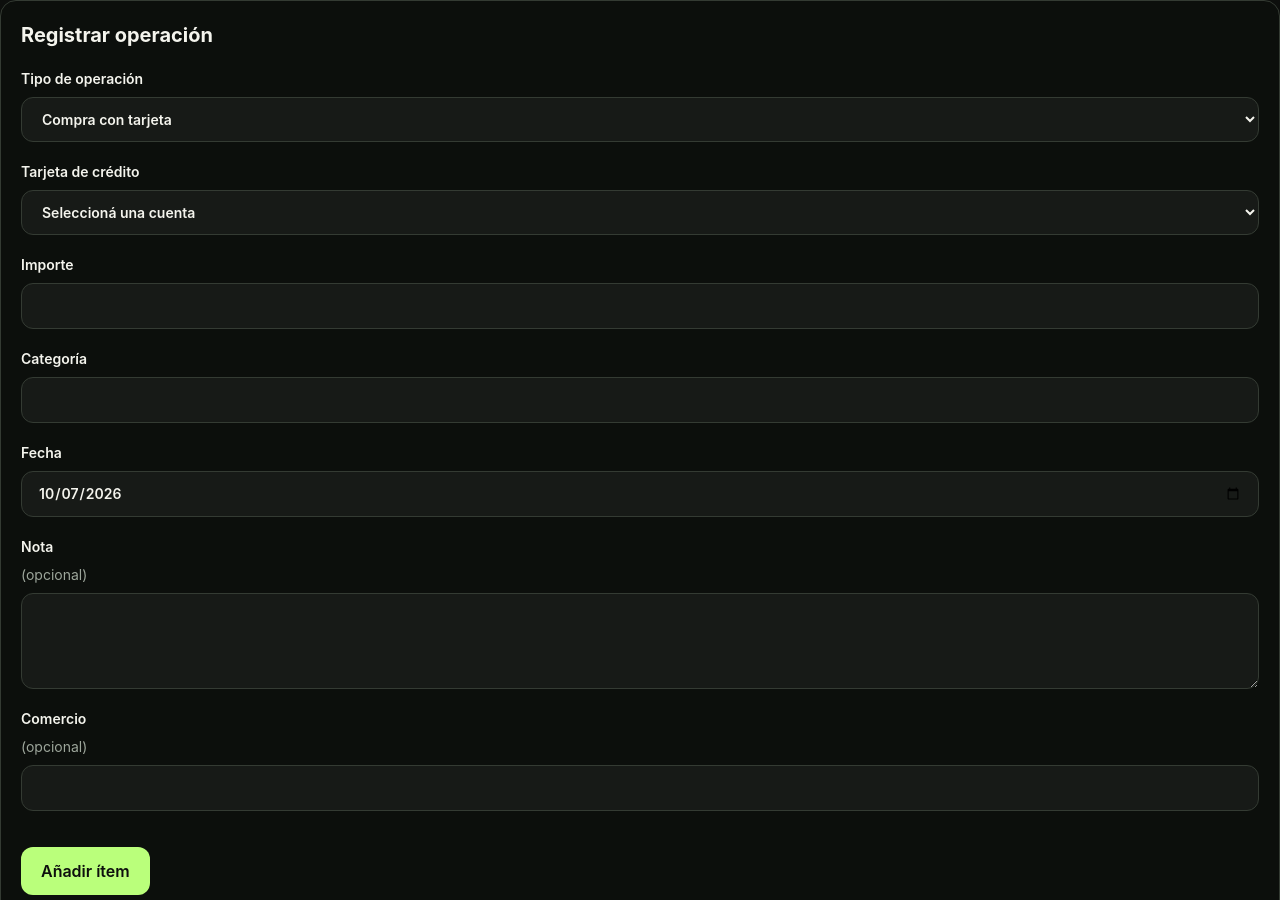
it: OperationForm › labels cached previews and keeps the estimated rebate informational
Select "Visa" in the dropdown labelled "Tarjeta de crédito". click: x=640, y=212
box: [21,190,1259,235]
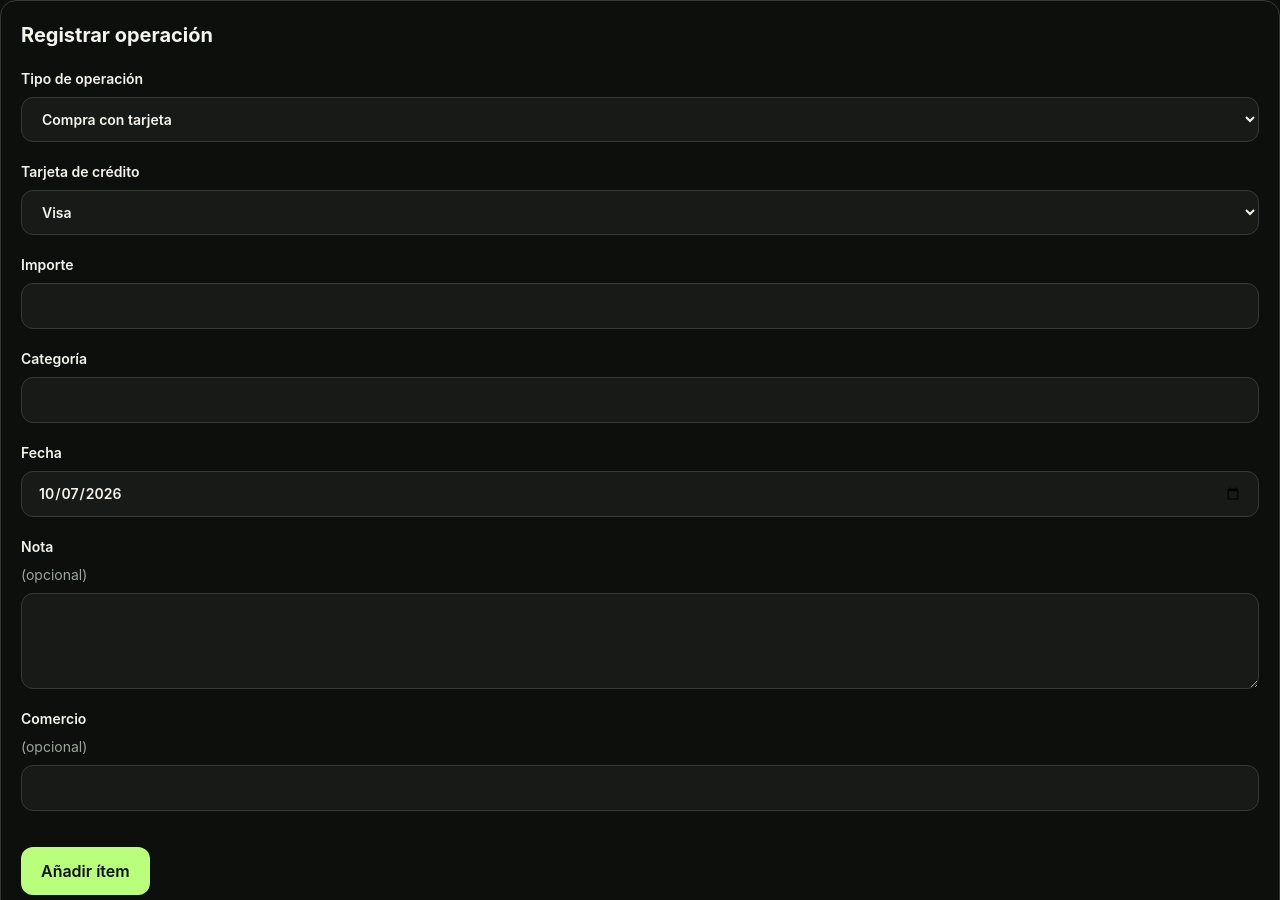
Type "85000" into the field labelled "Importe". click: x=640, y=306
box: [21,283,1259,329]
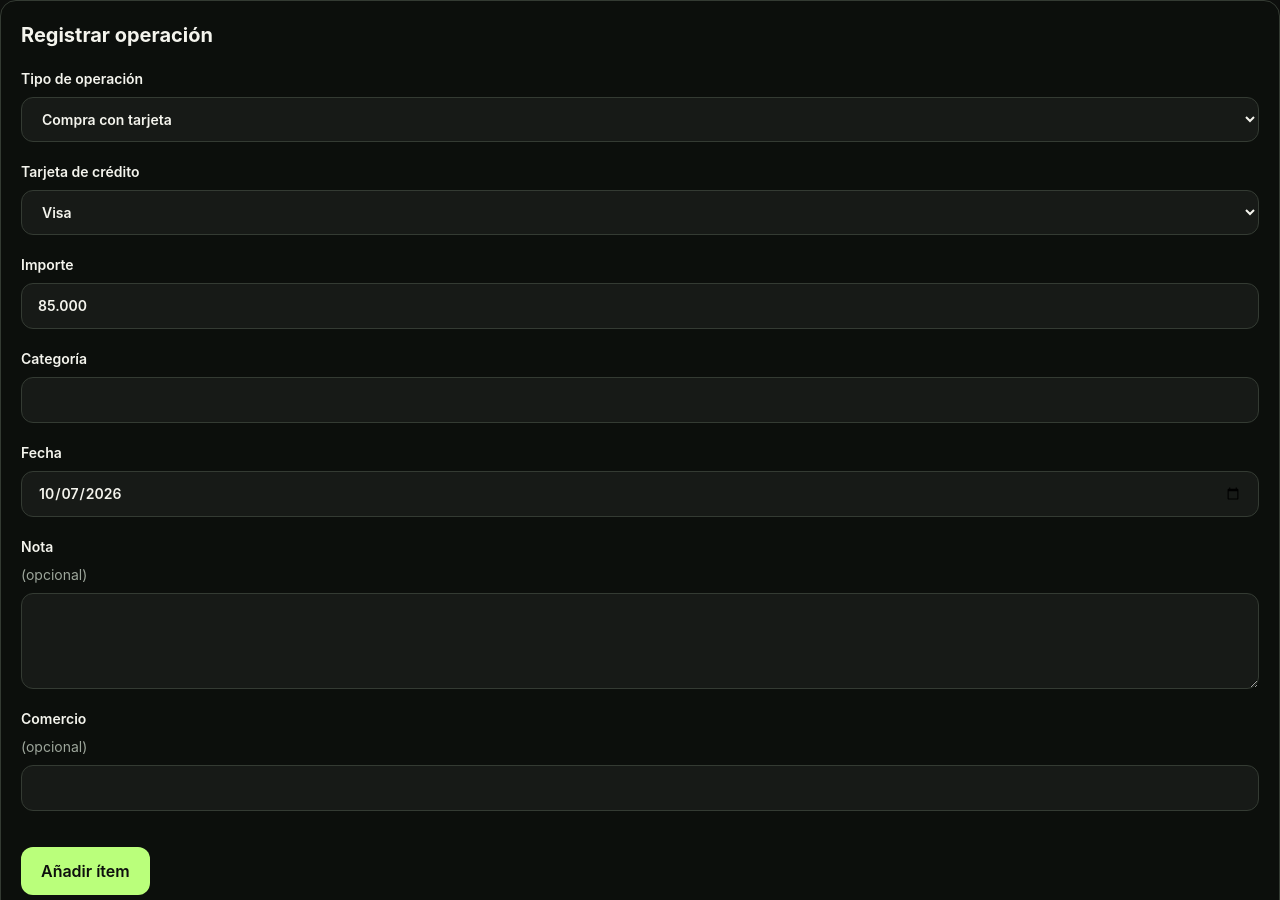
Type "2026-09-15" into the date field labelled "Fecha". click: x=640, y=494
box: [21,471,1259,517]
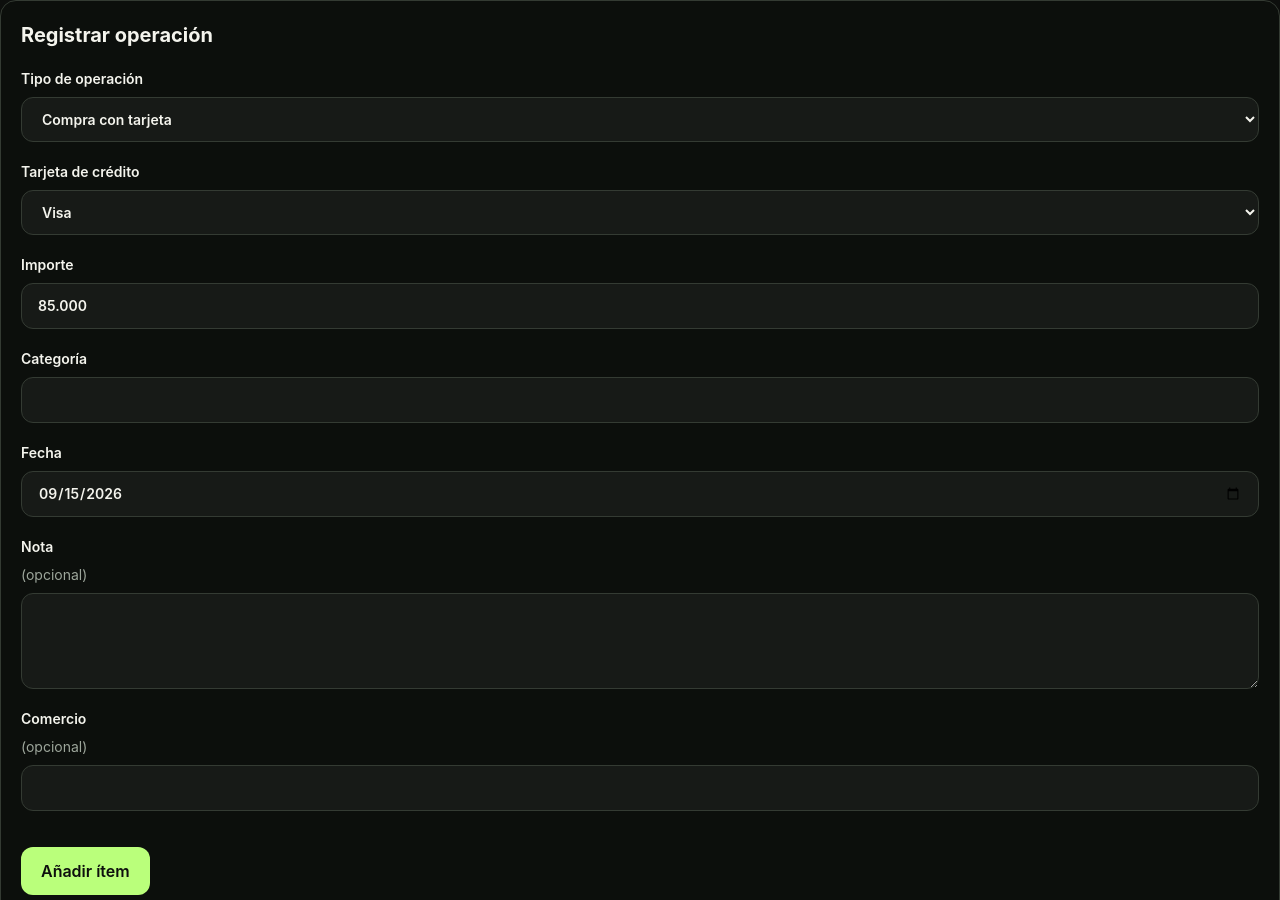
Type "Biggie" into the field labelled "Comercio (opcional)". click: x=640, y=788
box: [21,765,1259,811]
(page scrolled)
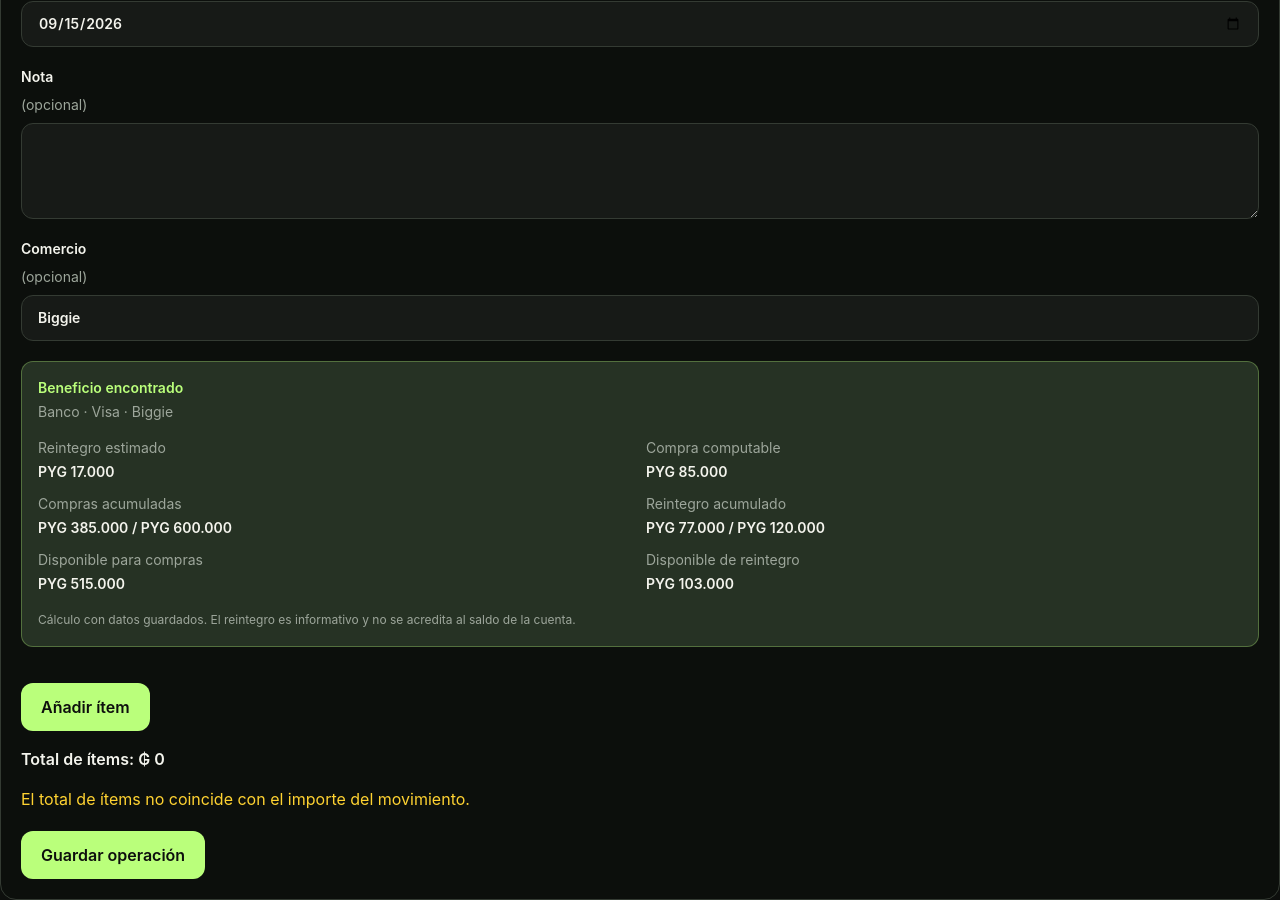
Expected: the text "Cálculo con datos guardados" is shown, [38,612,210,627]
Expected: the text "no se acredita al saldo" is shown, [210,612,576,627]
